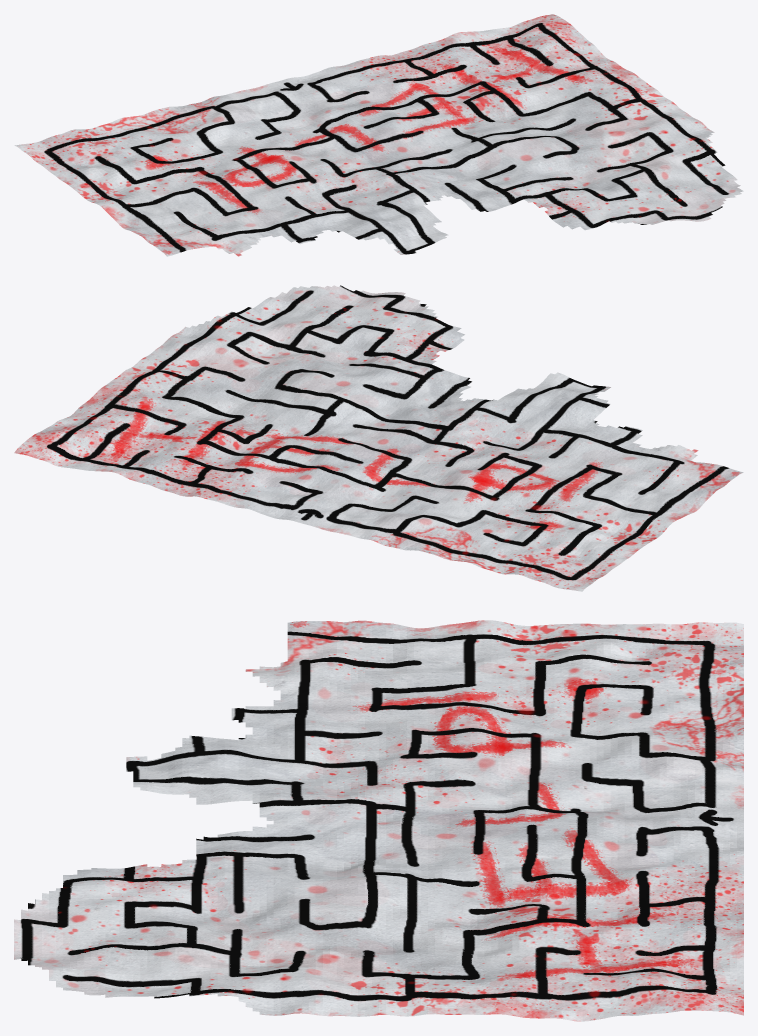
Rendered from map2_4.fbx.
3 views of the same model, one above another, from view 1: azimuth 30°, elevation 25°; view 2: azimuth 150°, elevation 25°; view 3: azimuth 270°, elevation 25° (orthographic). The views are drawn at different scales.
Visible parts, largest first — view 1: Cube.003; view 2: Cube.003; view 3: Cube.003.
Part boxes in pixels (<box>): Cube.003: <box>14,14,743,256</box>; Cube.003: <box>14,285,743,591</box>; Cube.003: <box>14,620,743,1021</box>.
Bounding box in the file's own units: 706 × 16.22 × 556.
